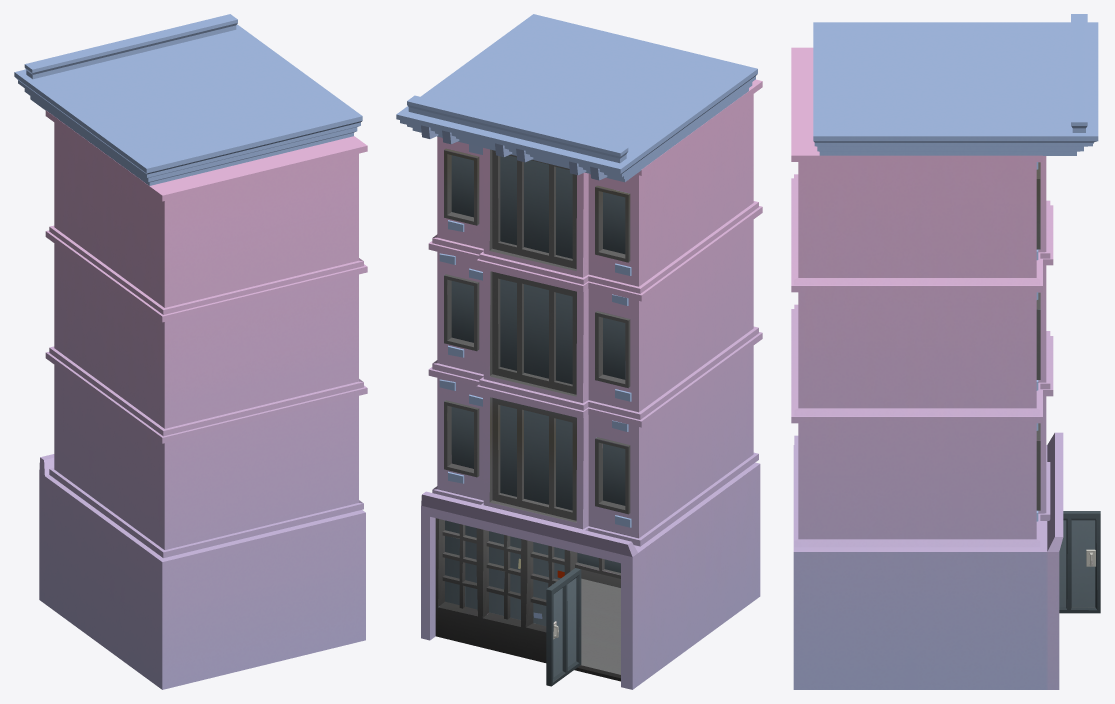
The model's file is BLD1210006.fbx.
The picture shows the model from 3 angles, left to right: view 1: azimuth 30°, elevation 25°; view 2: azimuth 150°, elevation 25°; view 3: azimuth 270°, elevation 25°; orthographic projection. The views are drawn at different scales.
Parts seen in each view (by area): view 1: smBLD1210006; view 2: smBLD1210006; view 3: smBLD1210006.
Part boxes in pixels (bbox=[...]): smBLD1210006: bbox=[14, 14, 367, 689]; smBLD1210006: bbox=[396, 14, 762, 689]; smBLD1210006: bbox=[791, 14, 1100, 689].
Bounding box in the file's own units: 625 × 1454 × 718.
1 material, 1 textured.
